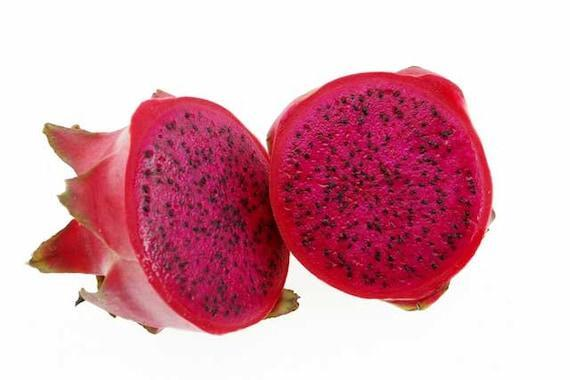dragon-fruit: (267, 69, 494, 301), (75, 95, 291, 337)
